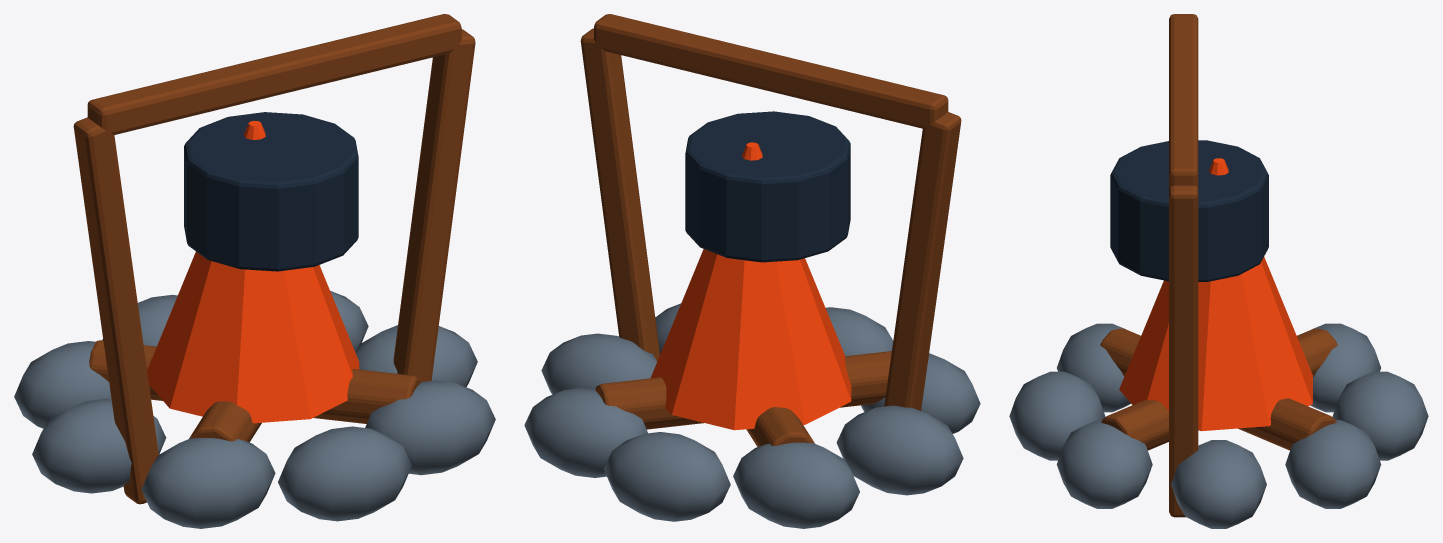
The model's file is traveler_camp_firepit.obj.
3 renders of one model, left to right at view 1: azimuth 30°, elevation 25°; view 2: azimuth 150°, elevation 25°; view 3: azimuth 270°, elevation 25°, orthographic. The views are drawn at different scales.
Parts seen in each view (by area): view 1: ow_firepit_flame_outer_M_orange, ow_firepit_kettle_M_gunmetal, ow_firepit_kettle_beam_M_wood, ow_firepit_kettle_post_1_M_wood, ow_firepit_kettle_post_0_M_wood, ow_firepit_stone_2_M_stone, ow_firepit_stone_1_M_stone, ow_firepit_stone_3_M_stone, ow_firepit_stone_0_M_stone, ow_firepit_stone_7_M_stone, ow_firepit_log_1_M_wood, ow_firepit_stone_4_M_stone (+3 smaller); view 2: ow_firepit_flame_outer_M_orange, ow_firepit_kettle_M_gunmetal, ow_firepit_kettle_beam_M_wood, ow_firepit_kettle_post_0_M_wood, ow_firepit_kettle_post_1_M_wood, ow_firepit_stone_6_M_stone, ow_firepit_stone_0_M_stone, ow_firepit_stone_7_M_stone, ow_firepit_stone_5_M_stone, ow_firepit_stone_4_M_stone, ow_firepit_log_0_M_wood, ow_firepit_stone_1_M_stone (+3 smaller); view 3: ow_firepit_flame_outer_M_orange, ow_firepit_kettle_M_gunmetal, ow_firepit_kettle_post_0_M_wood, ow_firepit_stone_4_M_stone, ow_firepit_stone_3_M_stone, ow_firepit_stone_5_M_stone, ow_firepit_stone_2_M_stone, ow_firepit_stone_6_M_stone, ow_firepit_kettle_beam_M_wood, ow_firepit_log_0_M_wood, ow_firepit_stone_7_M_stone, ow_firepit_stone_1_M_stone (+1 smaller).
Part boxes in pixels (<box>): ow_firepit_flame_outer_M_orange: <box>147,121,359,423</box>; ow_firepit_kettle_M_gunmetal: <box>184,112,358,271</box>; ow_firepit_kettle_beam_M_wood: <box>87,14,461,134</box>; ow_firepit_kettle_post_1_M_wood: <box>73,117,158,504</box>; ow_firepit_kettle_post_0_M_wood: <box>393,29,475,381</box>; ow_firepit_stone_2_M_stone: <box>278,426,411,521</box>; ow_firepit_stone_1_M_stone: <box>141,438,275,528</box>; ow_firepit_stone_3_M_stone: <box>365,380,495,475</box>; ow_firepit_stone_0_M_stone: <box>32,398,166,493</box>; ow_firepit_stone_7_M_stone: <box>14,341,111,428</box>; ow_firepit_log_1_M_wood: <box>89,340,420,423</box>; ow_firepit_stone_4_M_stone: <box>355,325,477,387</box>; ow_firepit_flame_outer_M_orange: <box>650,142,851,430</box>; ow_firepit_kettle_M_gunmetal: <box>685,111,850,262</box>; ow_firepit_kettle_beam_M_wood: <box>594,14,948,128</box>; ow_firepit_kettle_post_0_M_wood: <box>580,28,659,361</box>; ow_firepit_kettle_post_1_M_wood: <box>884,112,961,410</box>; ow_firepit_stone_6_M_stone: <box>604,432,730,521</box>; ow_firepit_stone_0_M_stone: <box>836,405,963,495</box>; ow_firepit_stone_7_M_stone: <box>733,442,859,528</box>; ow_firepit_stone_5_M_stone: <box>524,388,647,477</box>; ow_firepit_stone_4_M_stone: <box>541,333,657,394</box>; ow_firepit_log_0_M_wood: <box>595,351,891,429</box>; ow_firepit_stone_1_M_stone: <box>861,353,980,433</box>; ow_firepit_flame_outer_M_orange: <box>1119,158,1312,431</box>; ow_firepit_kettle_M_gunmetal: <box>1110,140,1268,281</box>; ow_firepit_kettle_post_0_M_wood: <box>1169,185,1198,517</box>; ow_firepit_stone_4_M_stone: <box>1171,440,1266,528</box>; ow_firepit_stone_3_M_stone: <box>1056,420,1152,508</box>; ow_firepit_stone_5_M_stone: <box>1285,420,1381,508</box>; ow_firepit_stone_2_M_stone: <box>1009,371,1105,460</box>; ow_firepit_stone_6_M_stone: <box>1332,371,1428,460</box>; ow_firepit_kettle_beam_M_wood: <box>1169,14,1198,187</box>; ow_firepit_log_0_M_wood: <box>1100,328,1336,450</box>; ow_firepit_stone_7_M_stone: <box>1310,323,1380,412</box>; ow_firepit_stone_1_M_stone: <box>1057,323,1130,412</box>.
Size of the model in its own units: 1.52 by 1.37 by 1.43.
